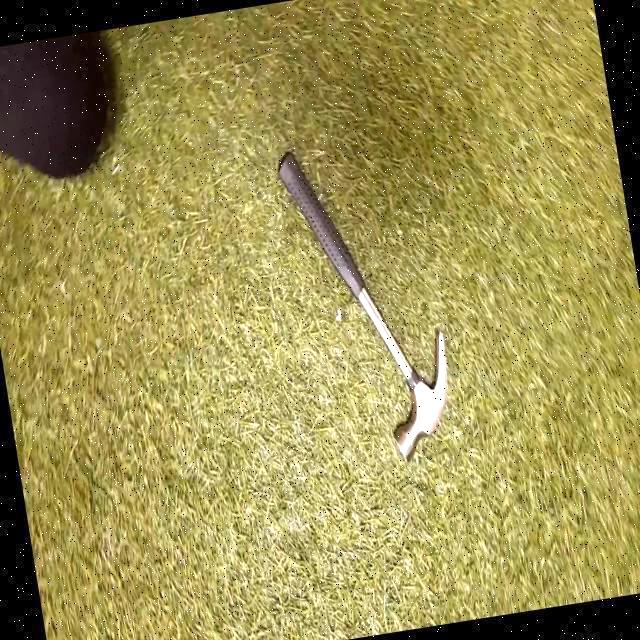hammer: (269, 153, 451, 455)
